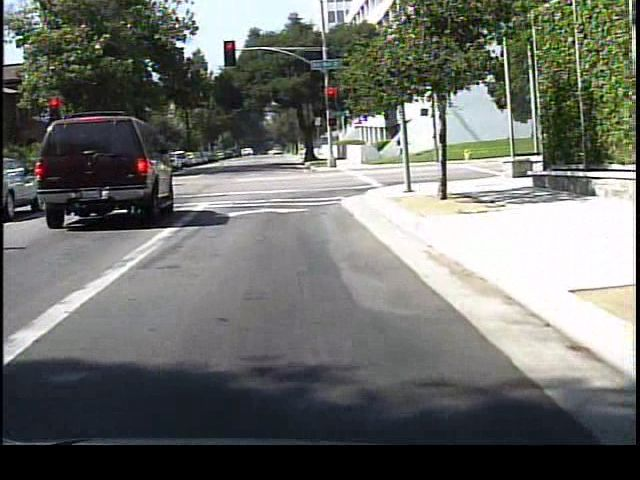car: (25, 102, 167, 229)
